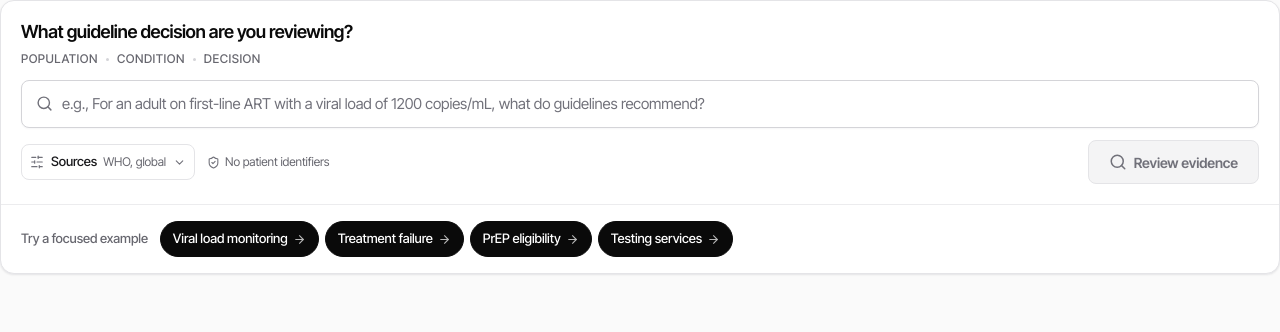
Test: QuestionComposer › shows calm validation only after submission and focuses the question
In the text box named "Guideline question": point(640, 104) 22,80 -> 1258,127, type "no"
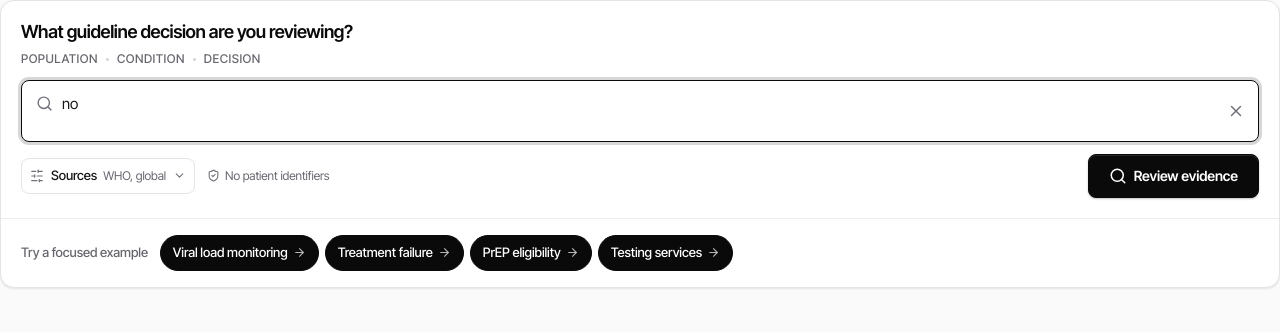
Click the button "Review evidence": point(1173, 176) 1088,154 -> 1259,198
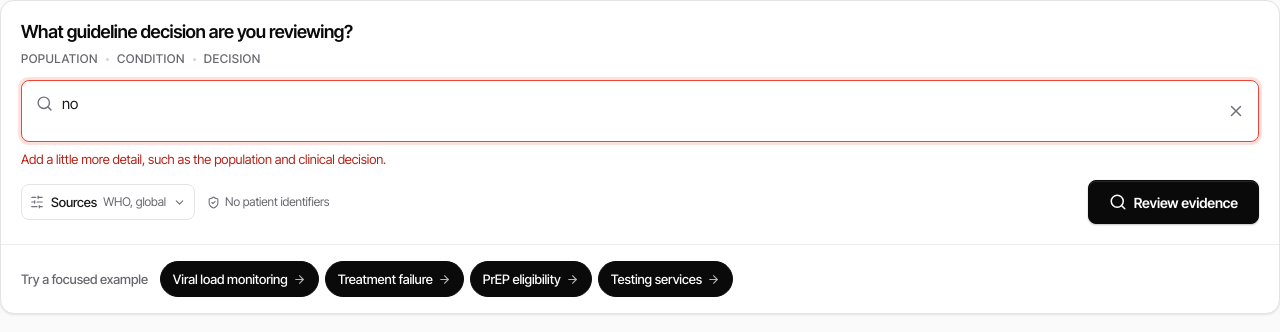
Expected: the message reads "Add a little more detail, such as the population and clinical decision.", 21,150 -> 386,166
